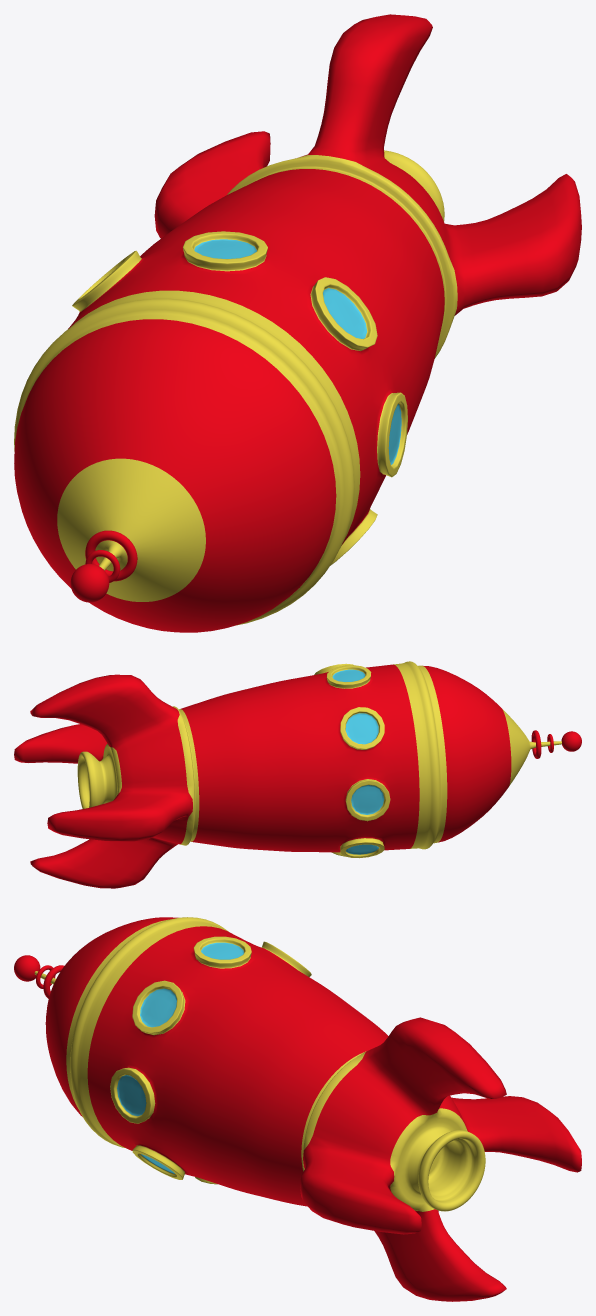
File: retro toy rocket.dae
The picture shows the model from 3 angles, top to bottom: view 1: azimuth 30°, elevation 25°; view 2: azimuth 150°, elevation 25°; view 3: azimuth 270°, elevation 25°; orthographic projection. The views are drawn at different scales.
Parts seen in each view (by area): view 1: R1; view 2: R1; view 3: R1.
Boxes of the visible parts, x1,y1,x2,y2 form: R1: [14, 14, 581, 632]; R1: [14, 661, 581, 888]; R1: [14, 917, 581, 1301].
Size of the model in its own units: 5.11 by 4.69 by 2.44.
